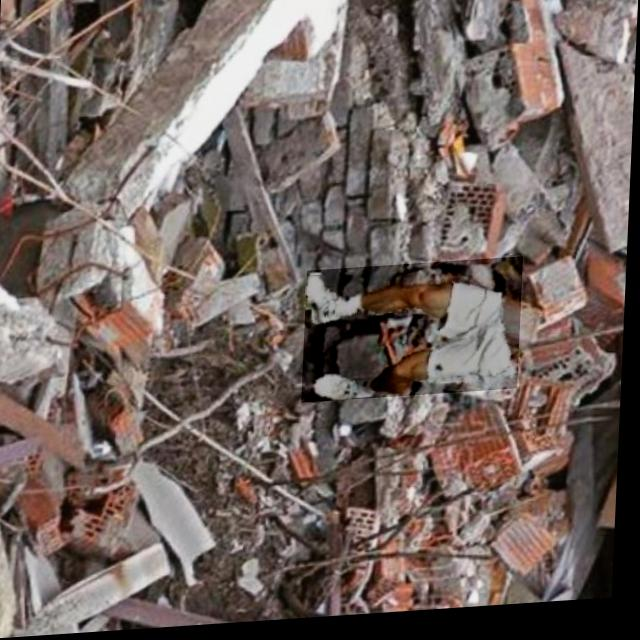Person in Rubble: (304, 264, 525, 407)
